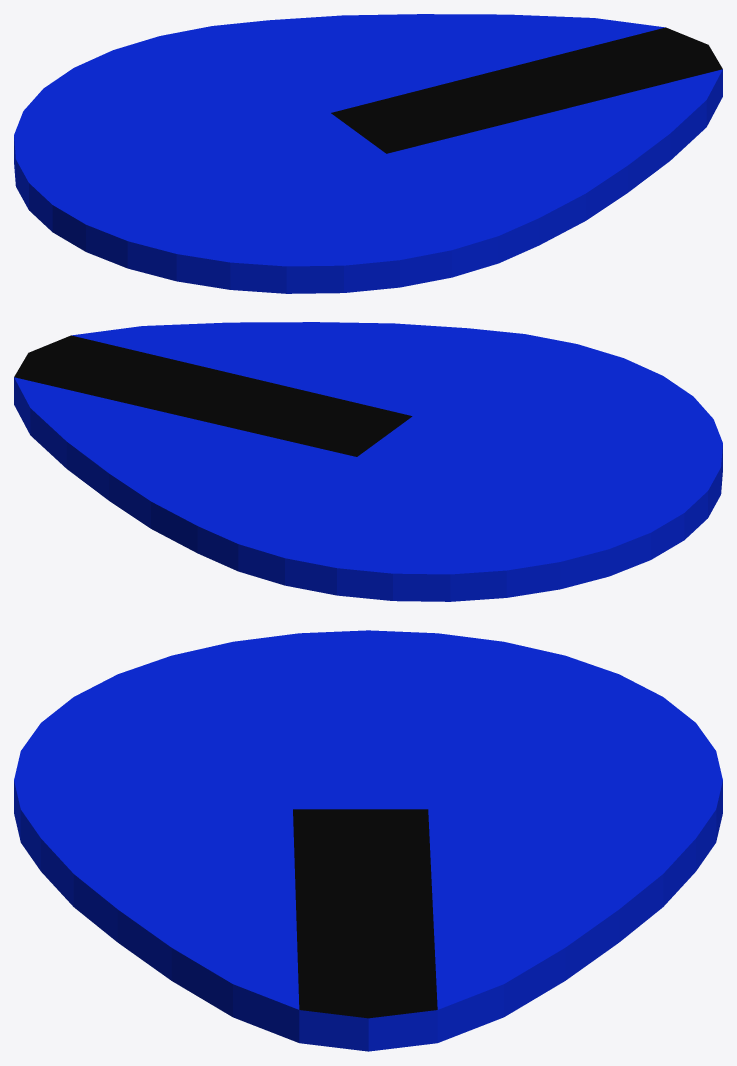
File: EGC-Pin.fbx
3 renders of one model, top to bottom at view 1: azimuth 30°, elevation 25°; view 2: azimuth 150°, elevation 25°; view 3: azimuth 270°, elevation 25°, orthographic. The views are drawn at different scales.
Visible parts, largest first — view 1: Circle; view 2: Circle; view 3: Circle.
Part boxes in pixels (x1=…): Circle: x1=14, y1=14, x2=722, y2=293; Circle: x1=14, y1=322, x2=722, y2=601; Circle: x1=14, y1=630, x2=722, y2=1051.
Bounding box in the file's own units: 251 × 10.04 × 194.
